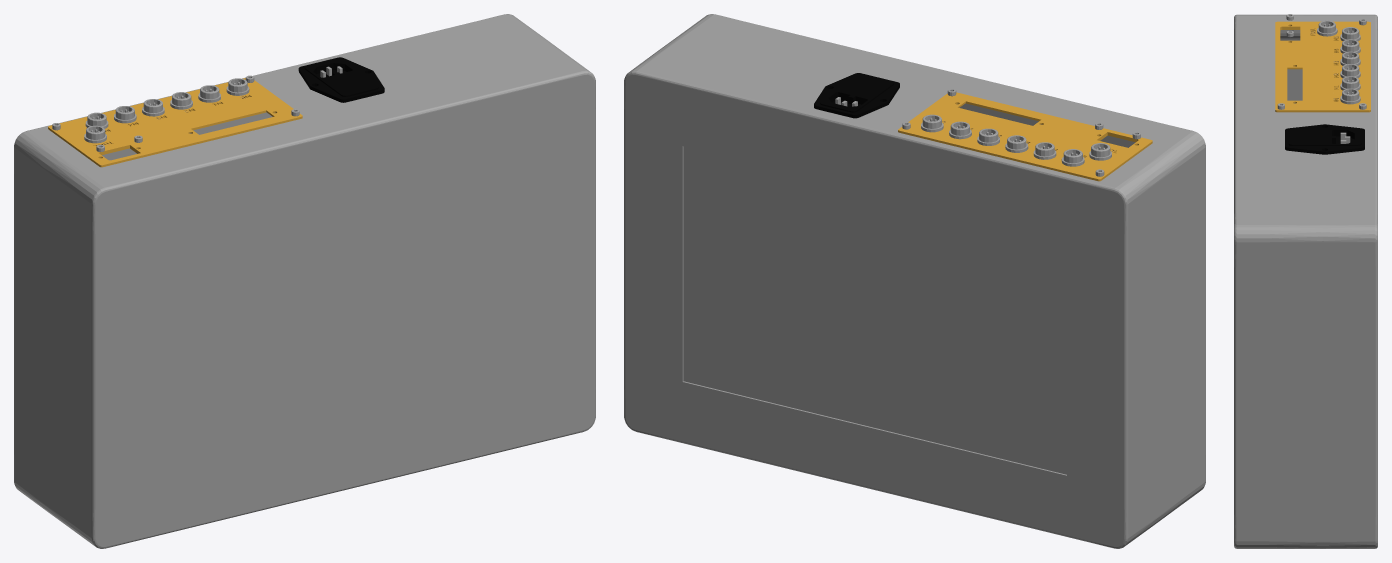
The picture shows the model from 3 angles, left to right: view 1: azimuth 30°, elevation 25°; view 2: azimuth 150°, elevation 25°; view 3: azimuth 270°, elevation 25°; orthographic projection. The views are drawn at different scales.
Parts seen in each view (by area): view 1: Box; view 2: Box; view 3: Box.
Boxes of the visible parts, x1,y1,x2,y2 form: Box: (14,14,595,548); Box: (624,14,1205,548); Box: (1234,14,1377,548).
Bounding box in the file's own units: 38 × 26.95 × 10.5.
